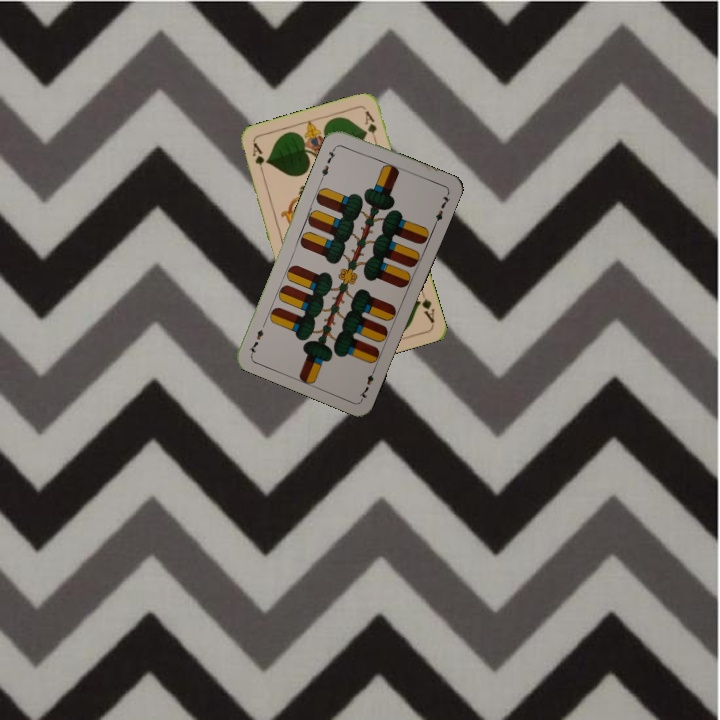E7: (355, 363, 379, 402), (317, 142, 339, 181)
GA: (414, 286, 437, 326), (248, 139, 267, 179)
